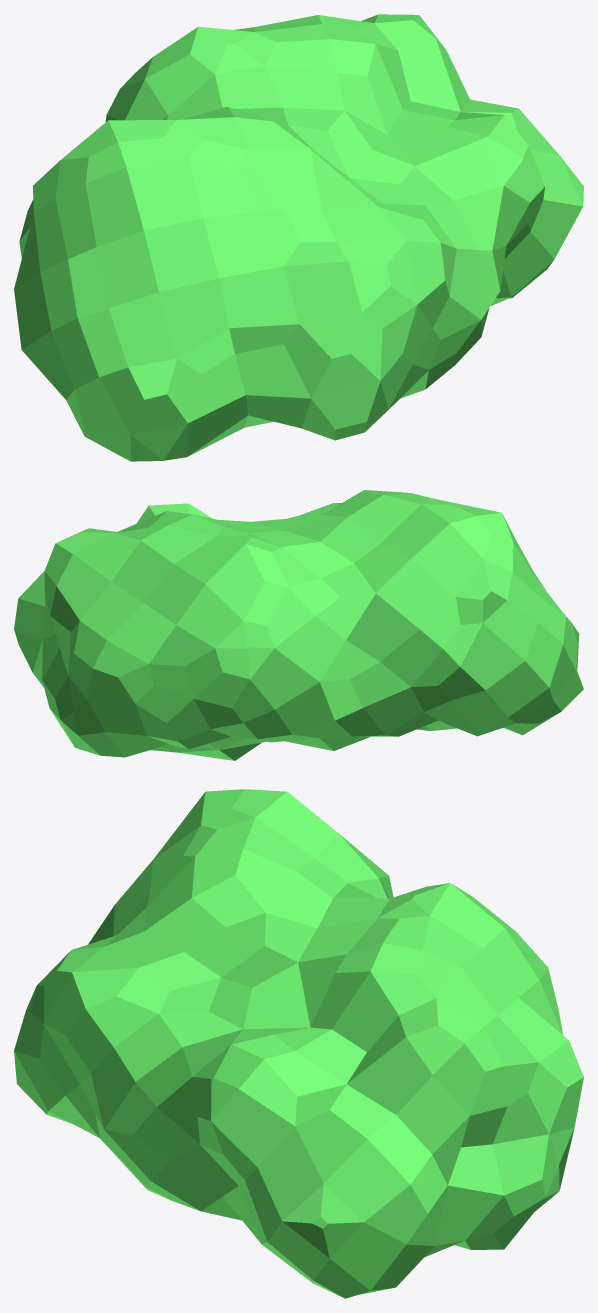
The model's file is Bush3.fbx.
The picture shows the model from 3 angles, top to bottom: view 1: azimuth 30°, elevation 25°; view 2: azimuth 150°, elevation 25°; view 3: azimuth 270°, elevation 25°; orthographic projection. The views are drawn at different scales.
Visible parts, largest first — view 1: Bush3; view 2: Bush3; view 3: Bush3.
Part boxes in pixels (box(x1,y1,x2,y2)): Bush3: box(14, 14, 583, 461); Bush3: box(14, 490, 583, 760); Bush3: box(14, 789, 583, 1298).
Size of the model in its own units: 5.43 by 2.71 by 4.53.
